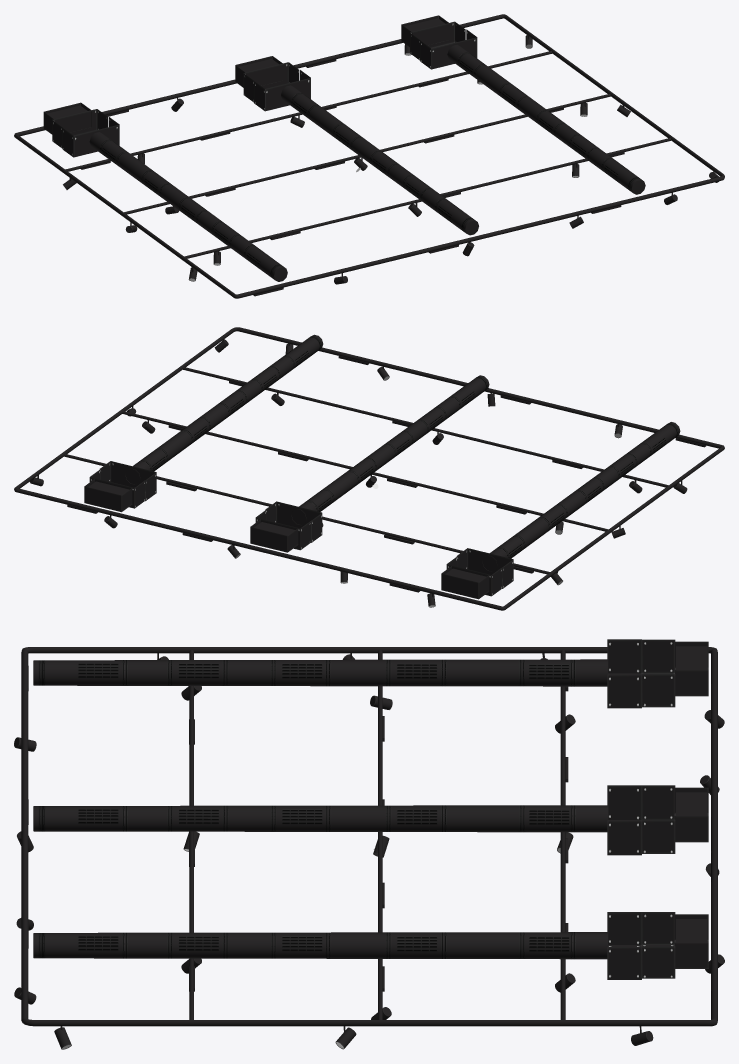
Rendered from Ceiling_Pipes_GRP.fbx.
The picture shows the model from 3 angles, top to bottom: view 1: azimuth 30°, elevation 25°; view 2: azimuth 150°, elevation 25°; view 3: azimuth 270°, elevation 25°; orthographic projection. The views are drawn at different scales.
Parts seen in each view (by area): view 1: Ceiling_Pipes_GRP; view 2: Ceiling_Pipes_GRP; view 3: Ceiling_Pipes_GRP.
Boxes of the visible parts, box(x1,y1,x2,y2) form: Ceiling_Pipes_GRP: box(14, 14, 724, 298); Ceiling_Pipes_GRP: box(14, 327, 724, 610); Ceiling_Pipes_GRP: box(14, 639, 724, 1049).
Bounding box in the file's own units: 1326 × 86.77 × 1041.
Materials: 2 (1 with a texture image).
